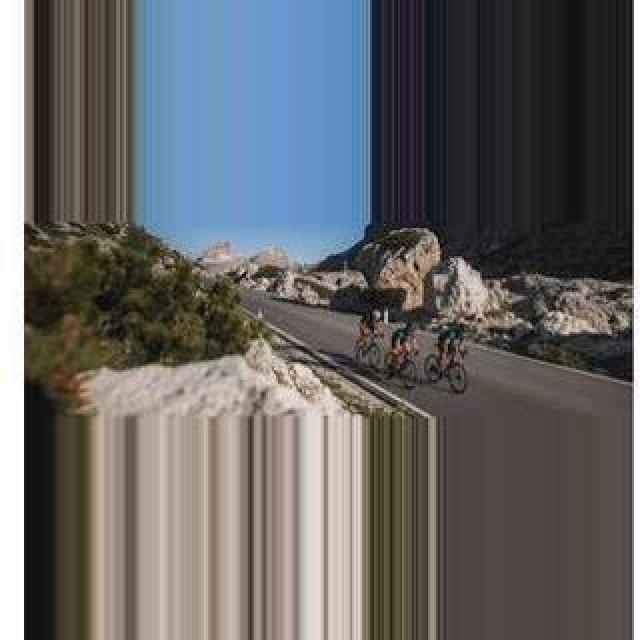MC-Bike: (432, 320, 466, 380)
Person: (426, 343, 468, 393), (385, 350, 417, 390), (356, 335, 382, 369)
